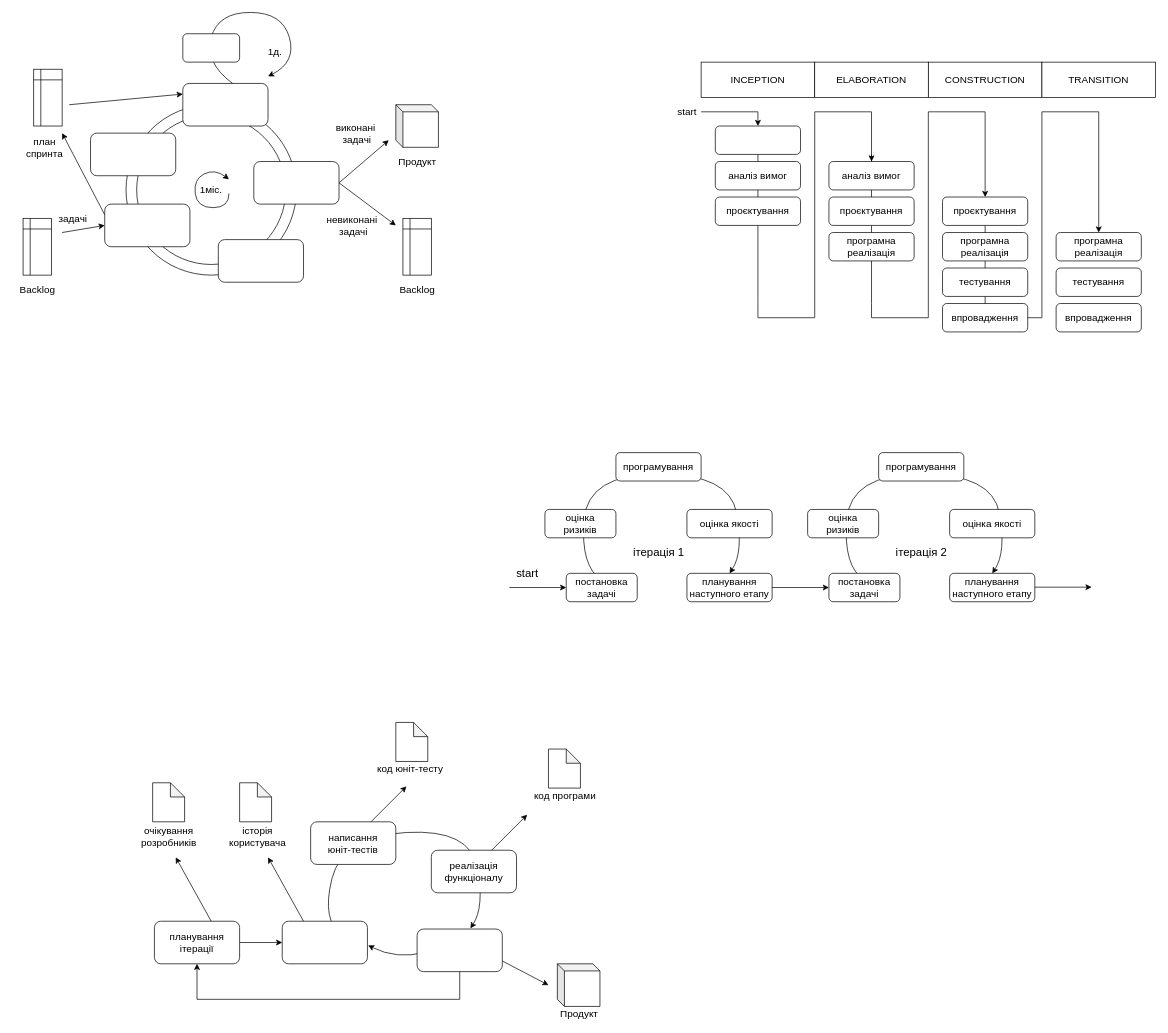
Some shapes in this 1168 by 1033 pixel diagram are drawn without their labels. Each missing label, with the box of its shape:
виконання задач: (182, 83, 268, 126)
завершення спринта: (253, 161, 339, 204)
збір вимог: (715, 125, 801, 154)
планування спринта: (104, 203, 190, 247)
початок спринта: (90, 132, 176, 176)
ретроспективна зустріч: (218, 239, 304, 282)
спілкування з замовником: (282, 921, 367, 964)
щоденна зустріч: (182, 33, 240, 62)
інтеграція: (416, 928, 502, 972)
